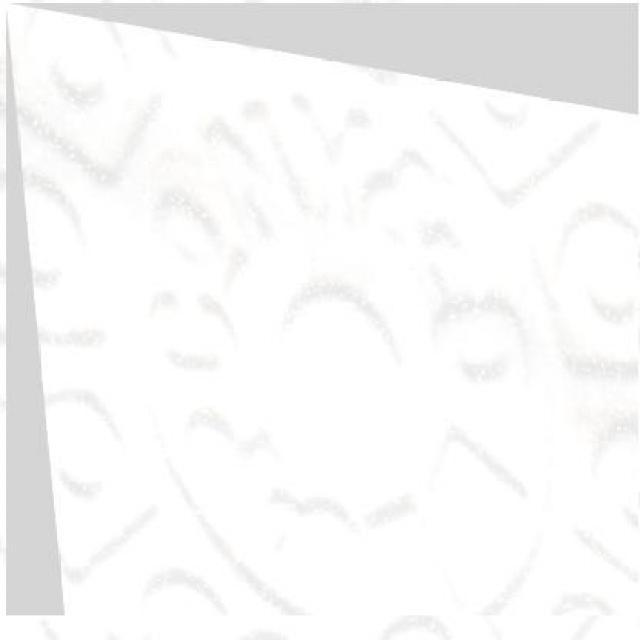Manhole: (6, 2, 640, 615)
